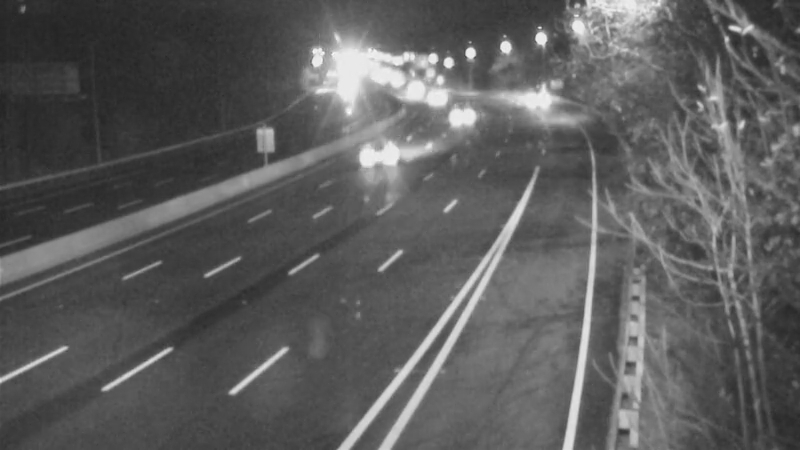vehicle: (340, 116, 420, 196), (412, 71, 462, 121), (502, 73, 552, 123), (391, 73, 441, 123), (435, 93, 485, 143)
